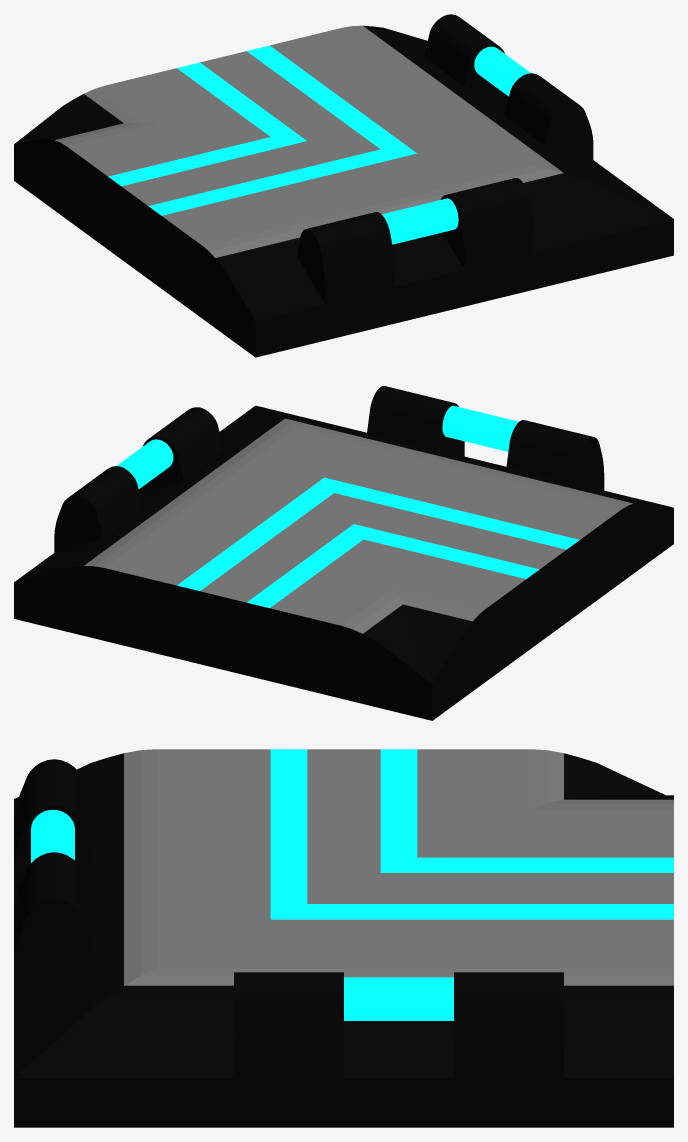
File: pathBendCurved.fbx
The picture shows the model from 3 angles, top to bottom: view 1: azimuth 30°, elevation 25°; view 2: azimuth 150°, elevation 25°; view 3: azimuth 270°, elevation 25°; orthographic projection. The views are drawn at different scales.
Parts seen in each view (by area): view 1: PathBend, Cylinder; view 2: PathBend, Cylinder; view 3: PathBend, Cylinder.
Boxes of the visible parts, x1=… form: PathBend: x1=14, y1=14, x2=673, y2=357; Cylinder: x1=382, y1=46, x2=530, y2=244; PathBend: x1=14, y1=386, x2=673, y2=720; Cylinder: x1=117, y1=405, x2=518, y2=488; PathBend: x1=14, y1=749, x2=673, y2=1127; Cylinder: x1=31, y1=809, x2=453, y2=1020.
Bounding box in the file's own units: 600 × 137 × 600.
